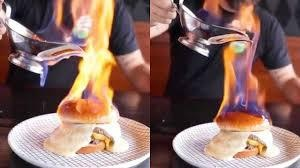fire: (50, 0, 122, 130), (225, 0, 259, 29)
